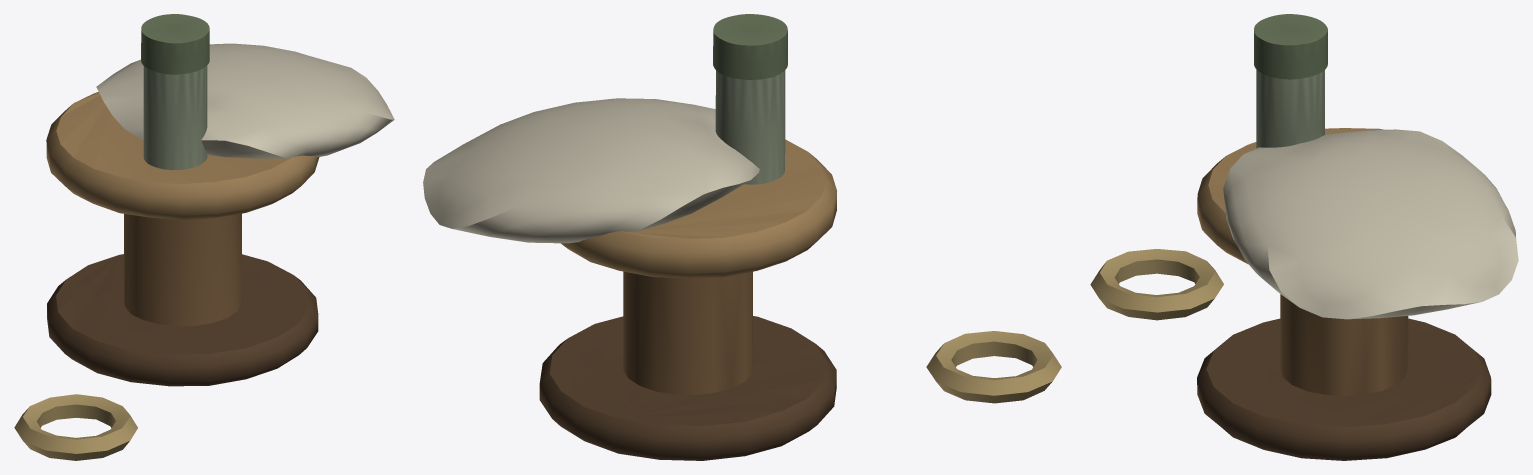
The model's file is watch_stool_a.glb.
The picture shows the model from 3 angles, left to right: view 1: azimuth 30°, elevation 25°; view 2: azimuth 150°, elevation 25°; view 3: azimuth 270°, elevation 25°; orthographic projection. The views are drawn at different scales.
Parts seen in each view (by area): view 1: Surface; view 2: Surface; view 3: Surface.
Boxes of the visible parts, box(x1,y1,x2,y2) form: Surface: box(14, 14, 394, 460); Surface: box(423, 14, 1061, 460); Surface: box(1090, 14, 1518, 460).
Bounding box in the file's own units: 2.12 × 1.47 × 1.6.
